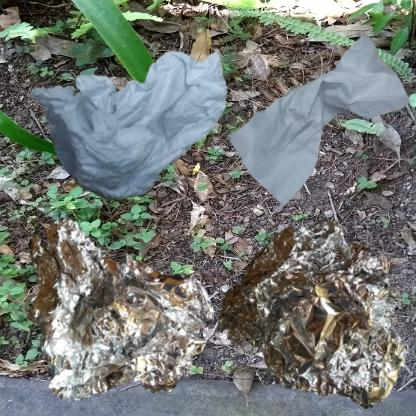aluminio: (10, 213, 226, 416), (213, 213, 416, 412)
papel: (10, 10, 249, 231), (213, 10, 416, 243)
